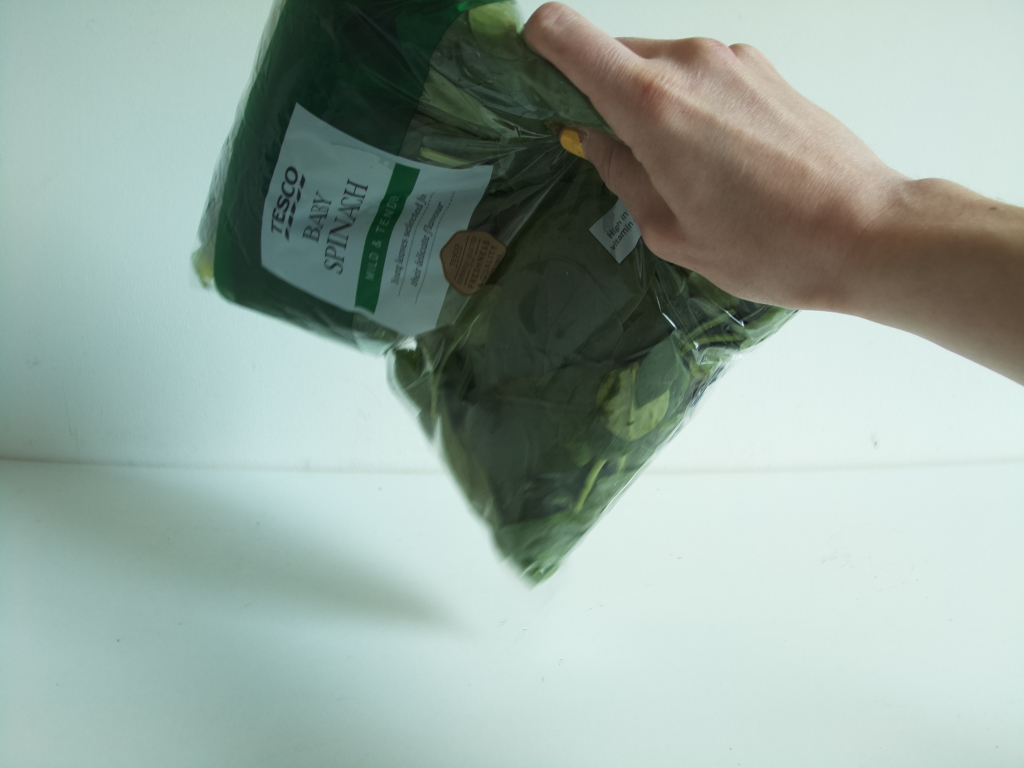salad: (182, 1, 796, 594)
